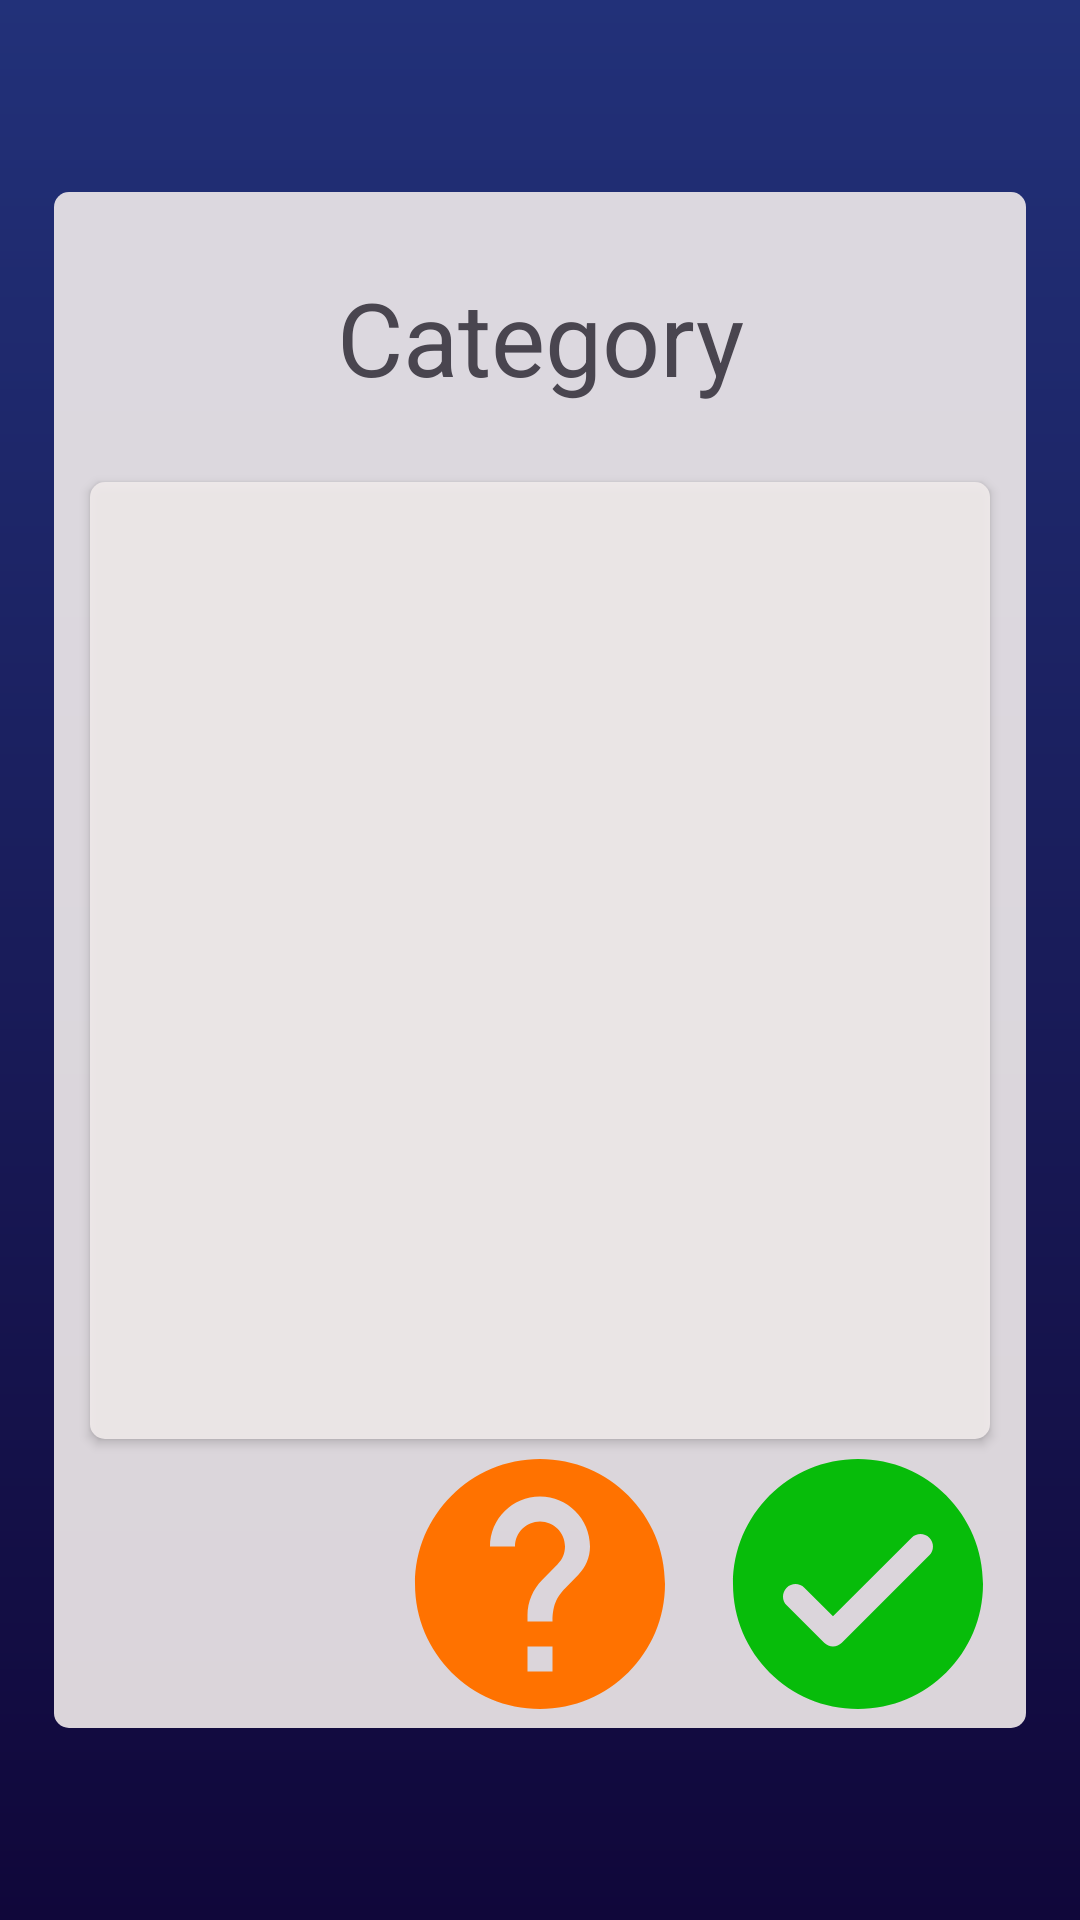

Screen size 1080*1920. Icon name, then its box in pixels as box=[x1, y1, x2, y2]:
help: box=[415, 1459, 665, 1709]
